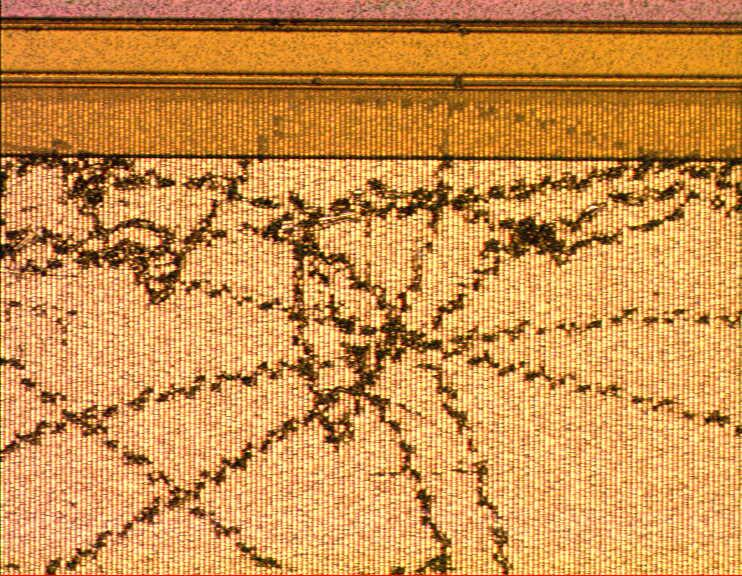SCRATCH: (1, 11, 742, 576)
